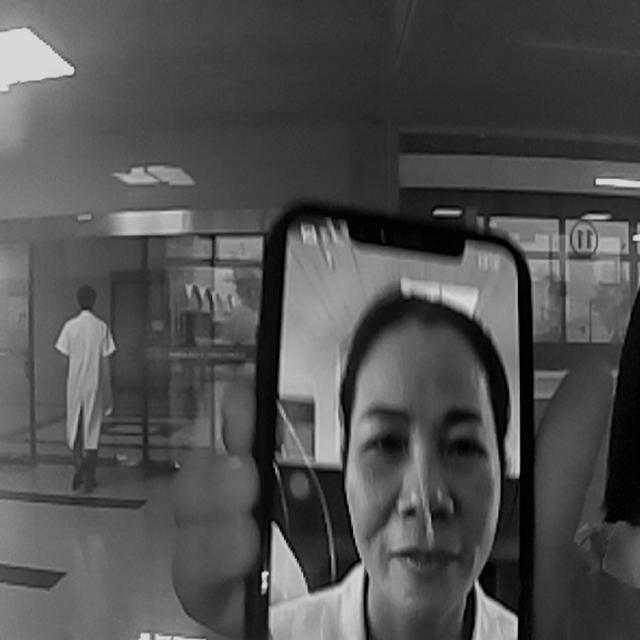fake: (243, 201, 541, 638)
